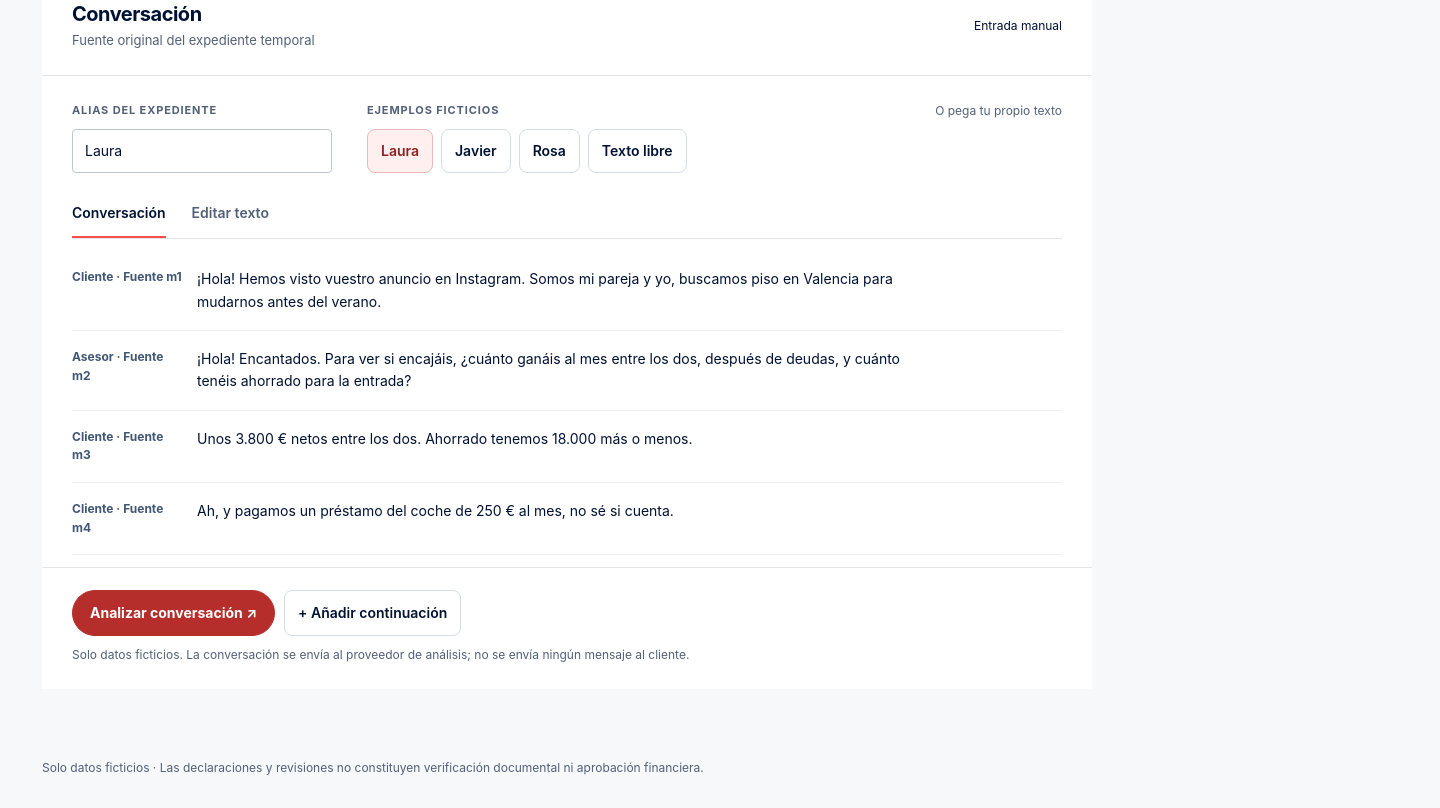
interacciones de la interfaz › ofrece recuperación cuando no hay datos utilizables
(page scrolled)
Click the button "Analizar conversación ↗".
click(174, 613)  # box left=72, top=590, right=275, bottom=636
(page scrolled)
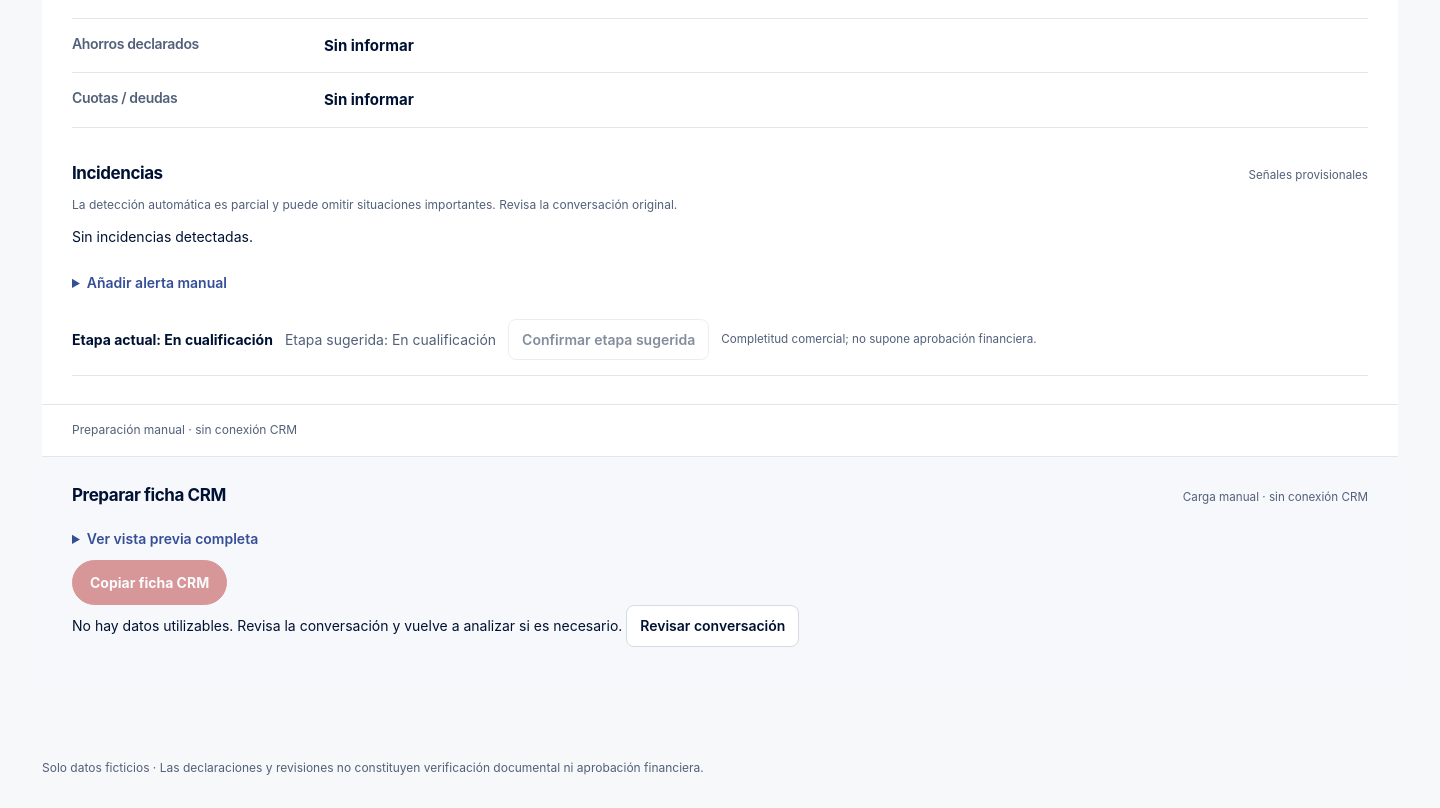
Result: the button "Copiar ficha CRM" is disabled at left=72, top=560, right=227, bottom=605
Result: the button "Revisar conversación" is shown at left=626, top=605, right=799, bottom=647
